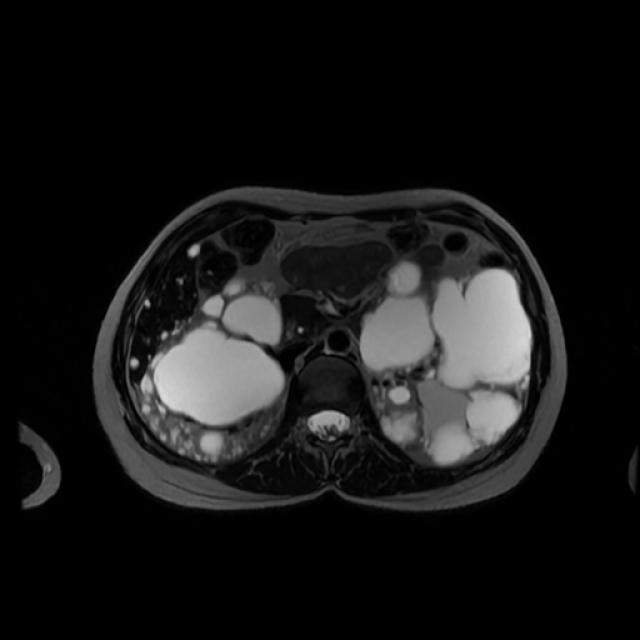sag: (139, 276, 288, 465)
sol: (363, 260, 536, 463)
